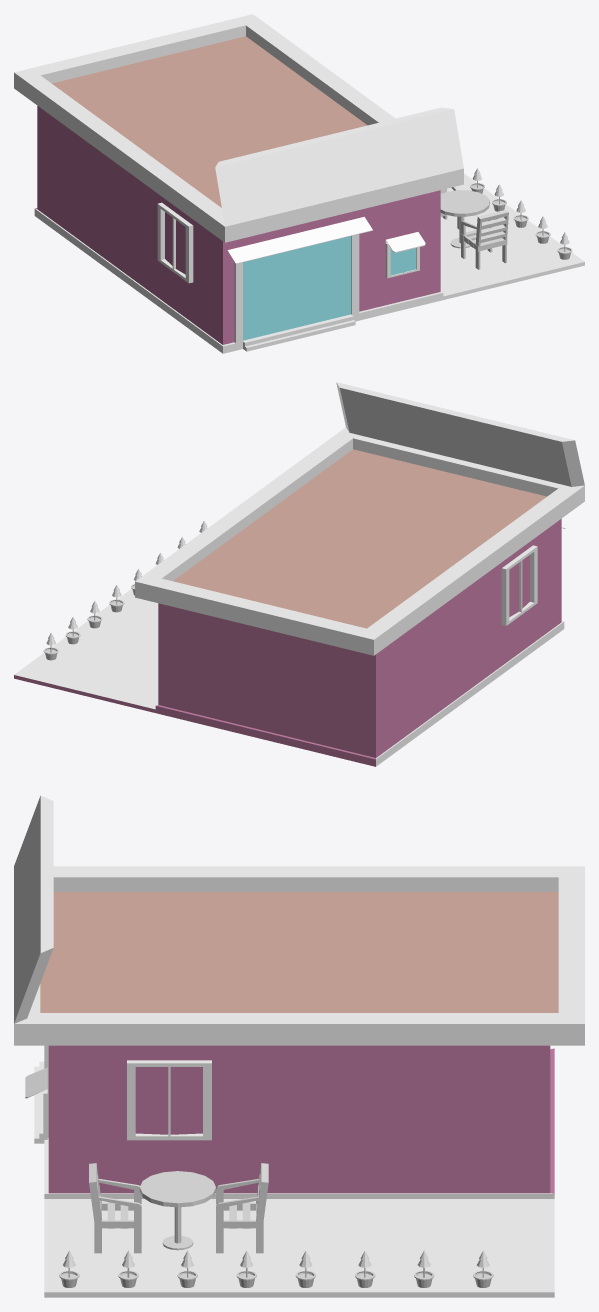
Rendered from store.fbx.
3 renders of one model, top to bottom at view 1: azimuth 30°, elevation 25°; view 2: azimuth 150°, elevation 25°; view 3: azimuth 270°, elevation 25°, orthographic. The views are drawn at different scales.
Visible parts, largest first — view 1: Cube, chair, table, little_tree; view 2: Cube, little_tree; view 3: Cube, chair, little_tree, table.
Boxes of the visible parts, x1,y1,x2,y2 form: Cube: (14, 14, 584, 353); chair: (440, 187, 508, 269); table: (440, 190, 489, 248); little_tree: (470, 168, 572, 259); Cube: (14, 382, 584, 766); little_tree: (43, 521, 207, 660); Cube: (14, 795, 584, 1297); chair: (89, 1163, 268, 1253); little_tree: (59, 1250, 493, 1287); table: (139, 1171, 215, 1250).
Bounding box in the file's own units: 491 × 240 × 483.
